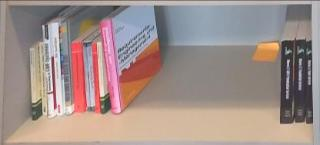book-spine: (100, 19, 122, 115), (51, 22, 64, 116), (280, 40, 294, 124), (42, 24, 54, 118), (61, 21, 72, 115), (72, 42, 85, 112), (295, 39, 305, 123), (38, 41, 48, 117), (305, 40, 313, 125), (92, 43, 101, 114), (87, 42, 96, 111), (29, 48, 37, 121), (97, 42, 105, 114), (83, 41, 91, 111)
